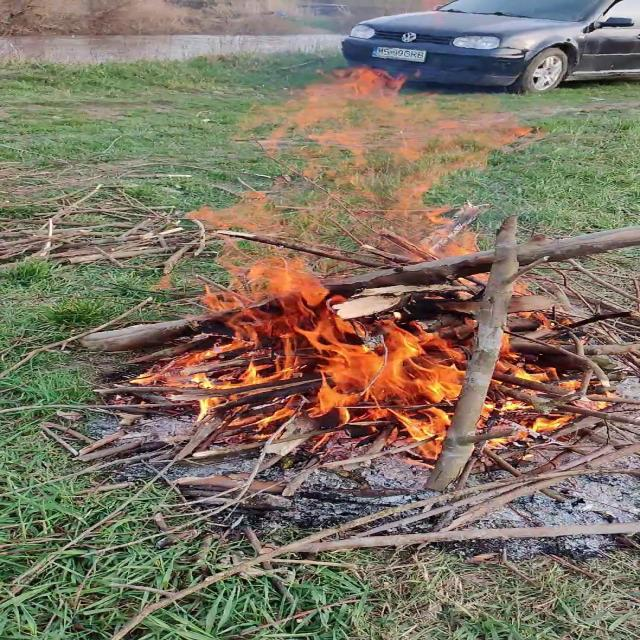Fire: (99, 92, 626, 450)
